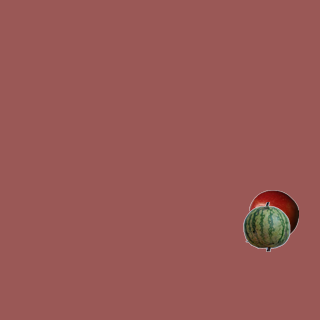Apple Braeburn: (248, 189, 298, 239)
Watermelon: (241, 201, 291, 251)
